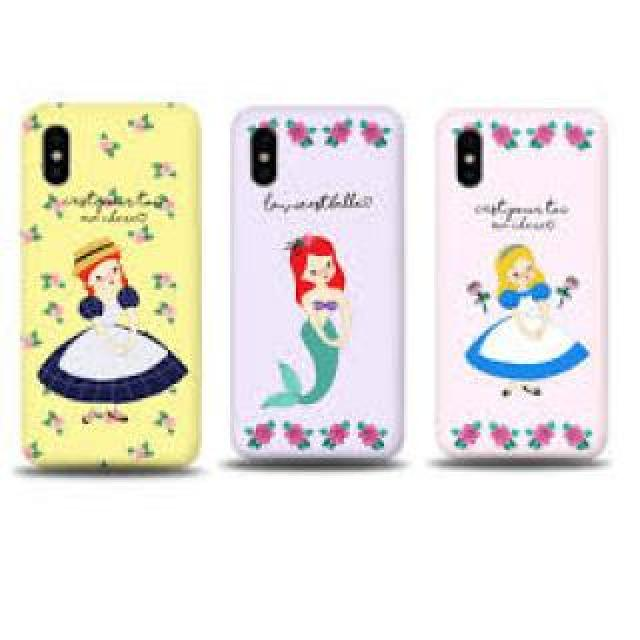smart phone: (438, 90, 624, 512), (20, 90, 203, 510), (224, 93, 424, 460)
